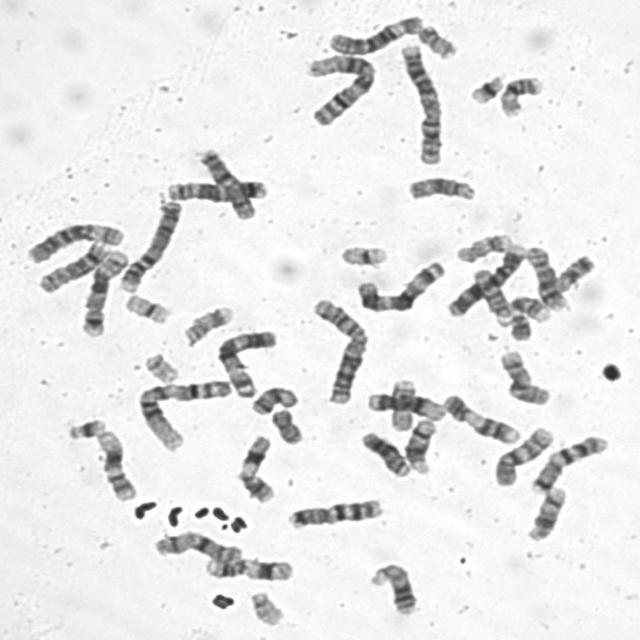A1: (132, 373, 234, 453), (300, 49, 378, 127)
A2: (306, 292, 370, 407), (394, 38, 445, 166)
A3: (351, 254, 448, 314), (210, 324, 280, 398)
B4: (440, 239, 528, 319), (114, 195, 184, 294)
B5: (75, 243, 131, 338), (160, 174, 270, 204)
C10: (489, 422, 556, 488), (494, 345, 552, 407)
C11: (232, 430, 278, 504), (200, 554, 295, 582)
C12: (90, 425, 138, 503), (361, 387, 447, 422)
C6: (20, 216, 127, 265), (322, 10, 426, 57)
C7: (525, 430, 610, 494), (282, 493, 386, 530)
C8: (32, 236, 112, 294), (520, 241, 571, 312)
C9: (437, 389, 522, 445), (502, 290, 554, 342)
D13: (363, 558, 420, 616), (356, 426, 412, 479)
D14: (521, 482, 568, 542), (400, 414, 437, 476)
D15: (468, 264, 514, 324), (402, 171, 478, 203)
E16: (494, 71, 545, 118), (387, 376, 422, 433)
E17: (177, 300, 235, 347), (450, 227, 514, 264)
E18: (548, 250, 597, 293), (245, 381, 300, 416)
F19: (118, 288, 173, 325), (334, 239, 390, 268)
F20: (412, 19, 458, 59), (267, 408, 305, 447)
G21: (464, 68, 506, 105), (61, 413, 108, 441)
G22: (244, 586, 285, 628), (138, 348, 180, 384)
X: (192, 144, 259, 222), (148, 527, 244, 564)
